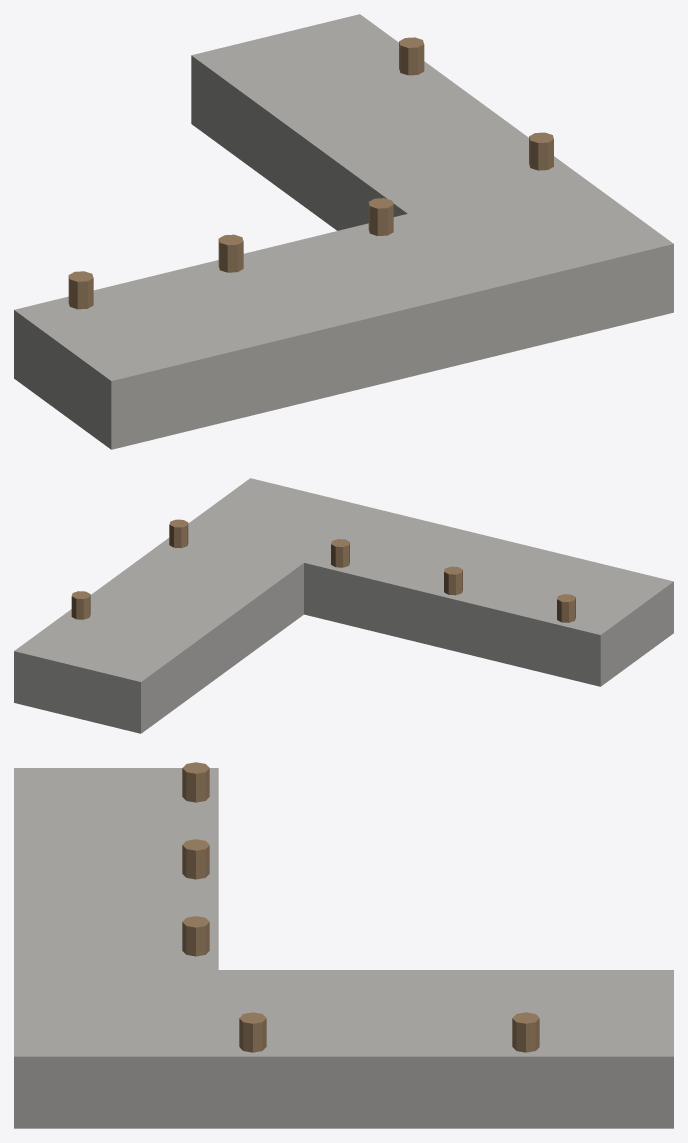
File: Dock_L.fbx
3 views of the same model, one above another, from view 1: azimuth 30°, elevation 25°; view 2: azimuth 150°, elevation 25°; view 3: azimuth 270°, elevation 25° (orthographic). The views are drawn at different scales.
Parts seen in each view (by area): view 1: Dock_L; view 2: Dock_L; view 3: Dock_L.
Part boxes in pixels (bbox=[...]): Dock_L: bbox=[14, 14, 673, 449]; Dock_L: bbox=[14, 478, 673, 733]; Dock_L: bbox=[14, 762, 673, 1128].
Bounding box in the file's own units: 6 × 0.98 × 5.8.
